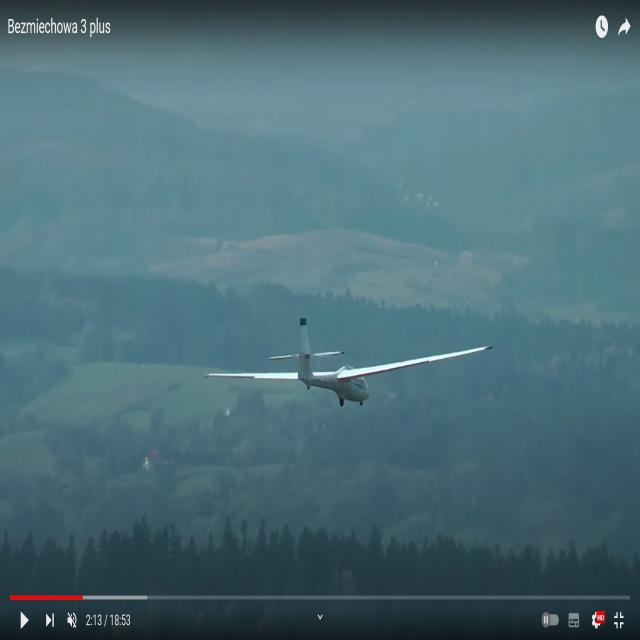iha: (213, 352, 494, 375)
